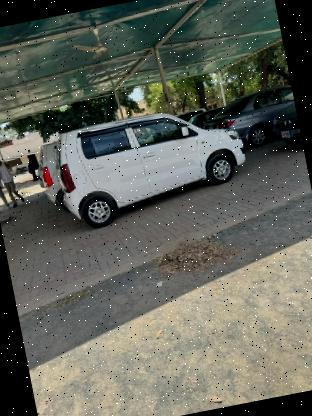car: (45, 92, 258, 234)
